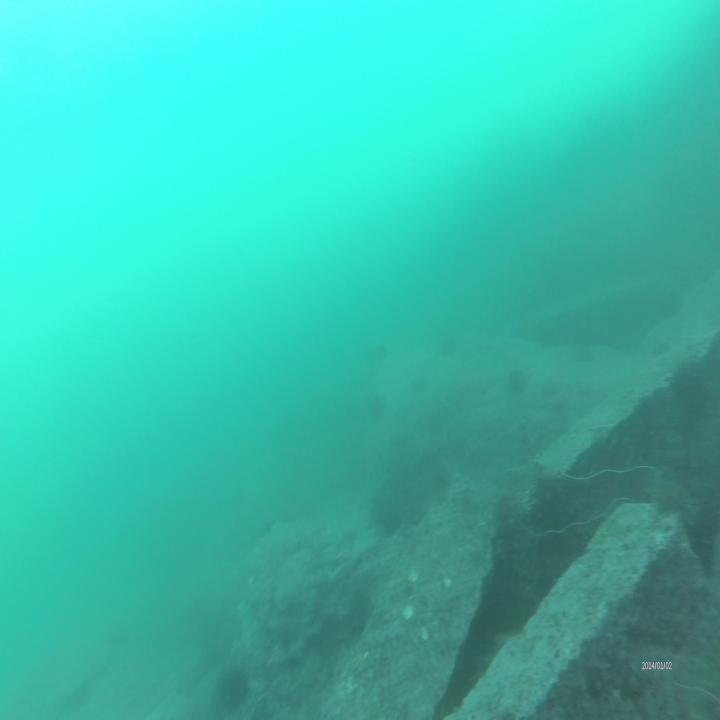echinus: (349, 588, 376, 634), (222, 666, 249, 708), (369, 391, 386, 422), (508, 370, 526, 397)
